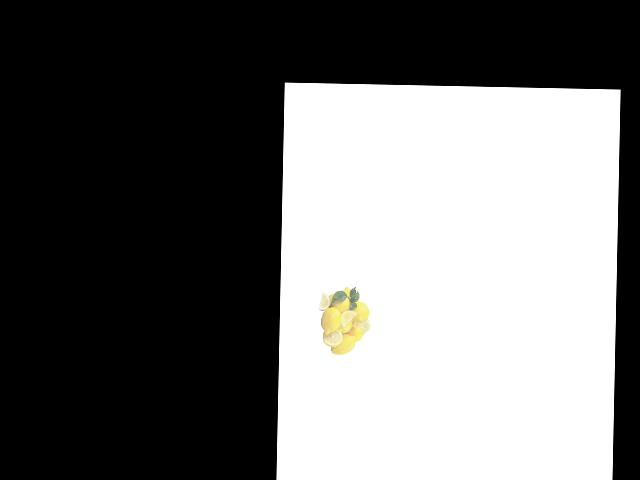lemon: (328, 292, 350, 315)
